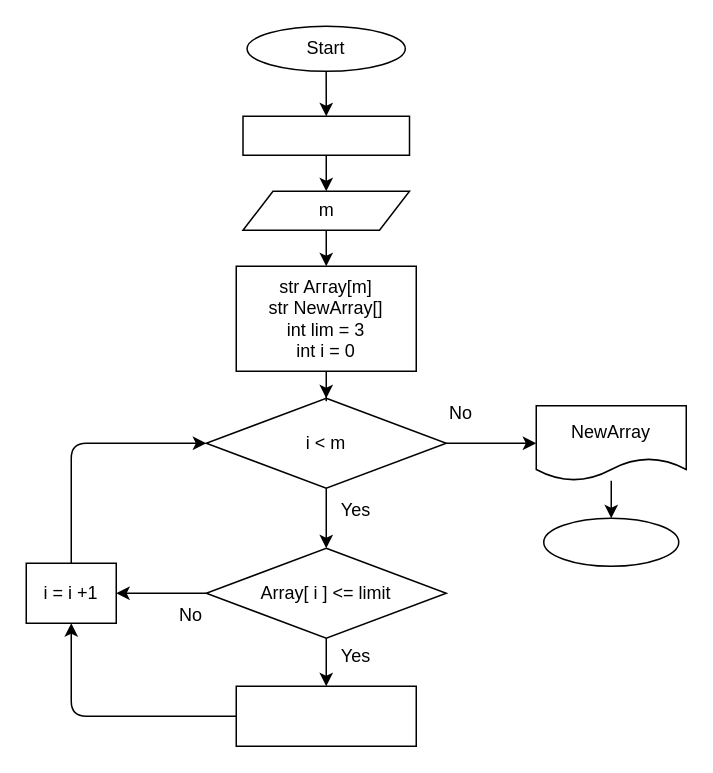
The diagram is 713 pixels wide and 773 high, and some of its shapes have lost their labels. Each missing label, with the centre of its shape:
End: the point at 610,541
int m: the point at 326,135
NewArray[] = NewArray[] + Array[i]: the point at 325,715
